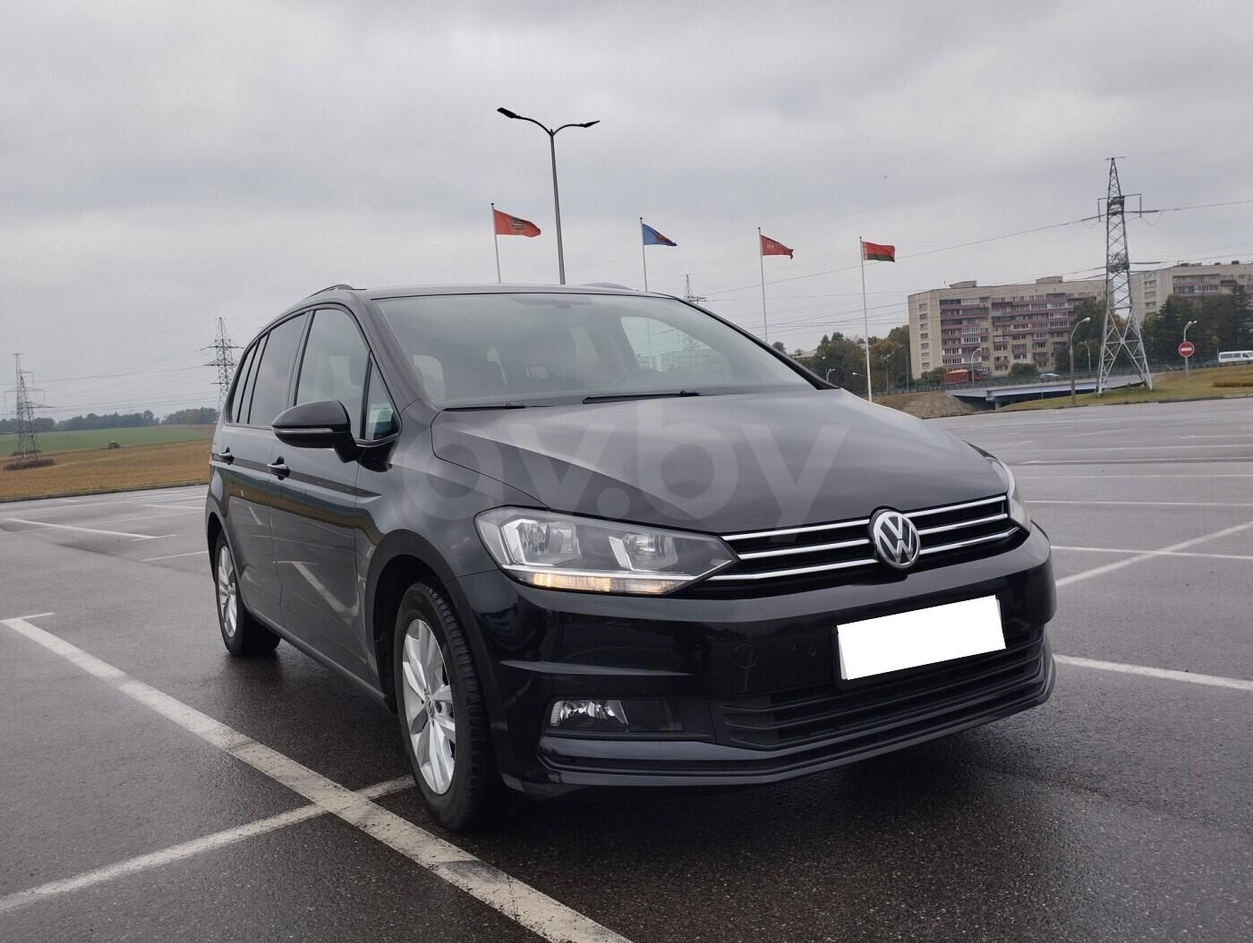Touran_2015: (203, 282, 1057, 824)
